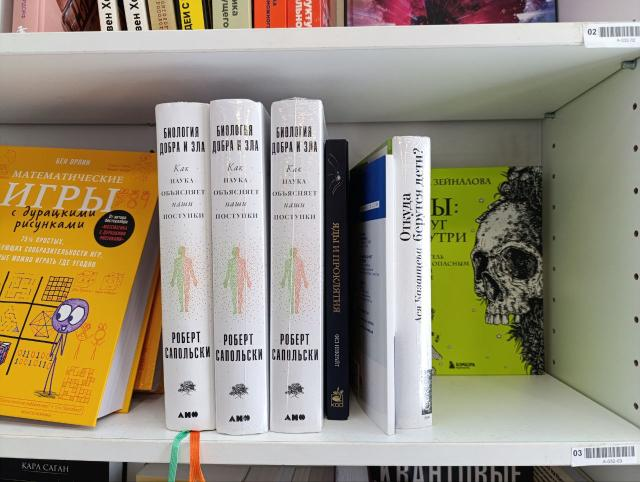book-s-spine: (155, 99, 217, 432), (210, 98, 269, 436), (270, 98, 323, 435), (392, 136, 434, 429), (325, 138, 349, 421)
